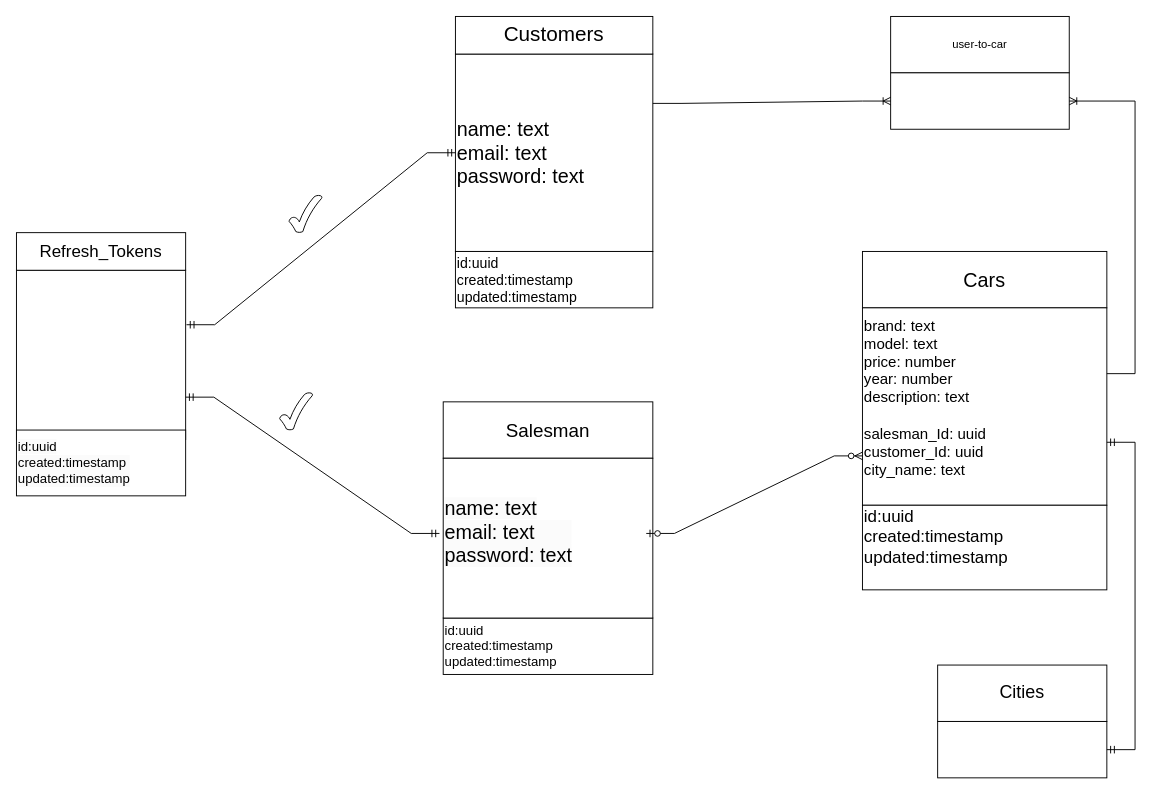
Image size: 1160x794. Some labels were removed from this diagram. Each missing label, with the box of its shape:
city; text: (937, 721, 1107, 778)
refreshToken: text user_id: uuid: (16, 269, 186, 439)
user_id: uuid car_id: uuid: (890, 72, 1069, 129)
